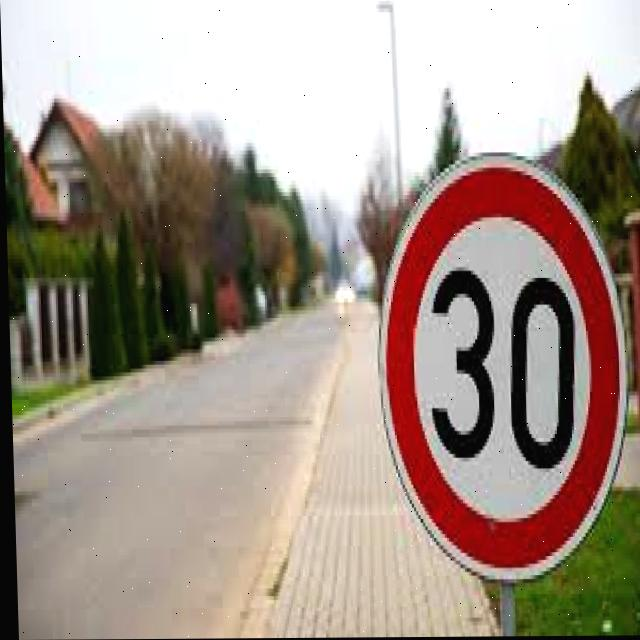Speed limit 30: (369, 150, 631, 586)
